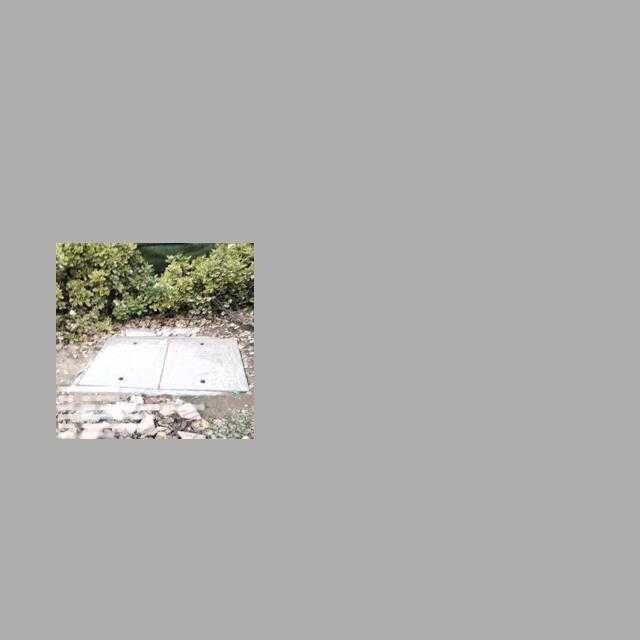good: (76, 336, 249, 391)
